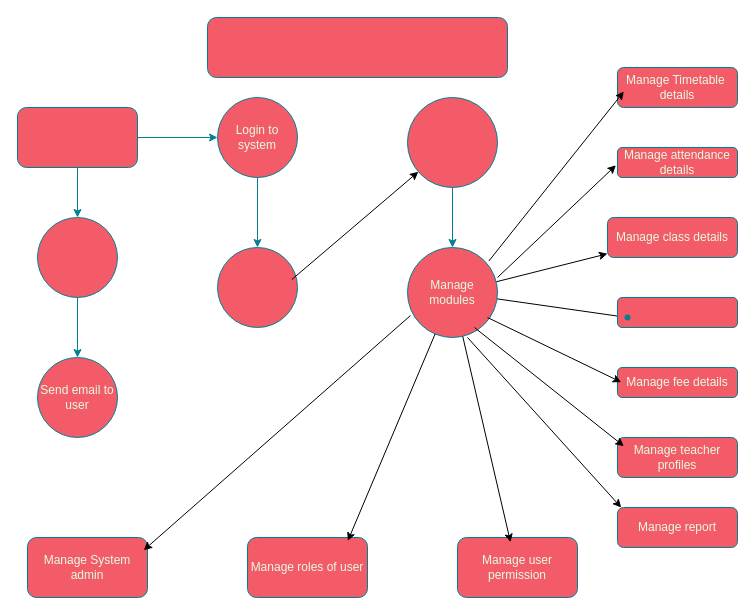
This 755x615 diagram has some shape labels left out. Here are the shapes that lost their labels. From the top down, the box of each, then its label:
(206, 16, 508, 78): Student Information System
(16, 106, 138, 168): Admin
(406, 96, 498, 188): Check roles of access
(36, 216, 118, 298): Forgot password
(216, 246, 298, 328): Check credentials
(616, 296, 738, 328): Manage student details
